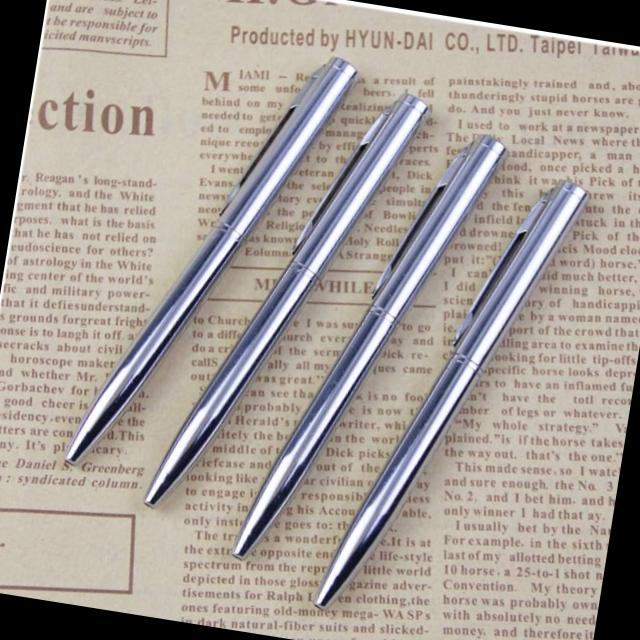pen: (260, 134, 640, 640), (79, 61, 440, 591), (15, 28, 410, 512), (189, 100, 545, 605)
